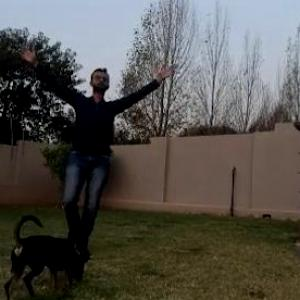takeoff: (0, 33, 180, 259)
